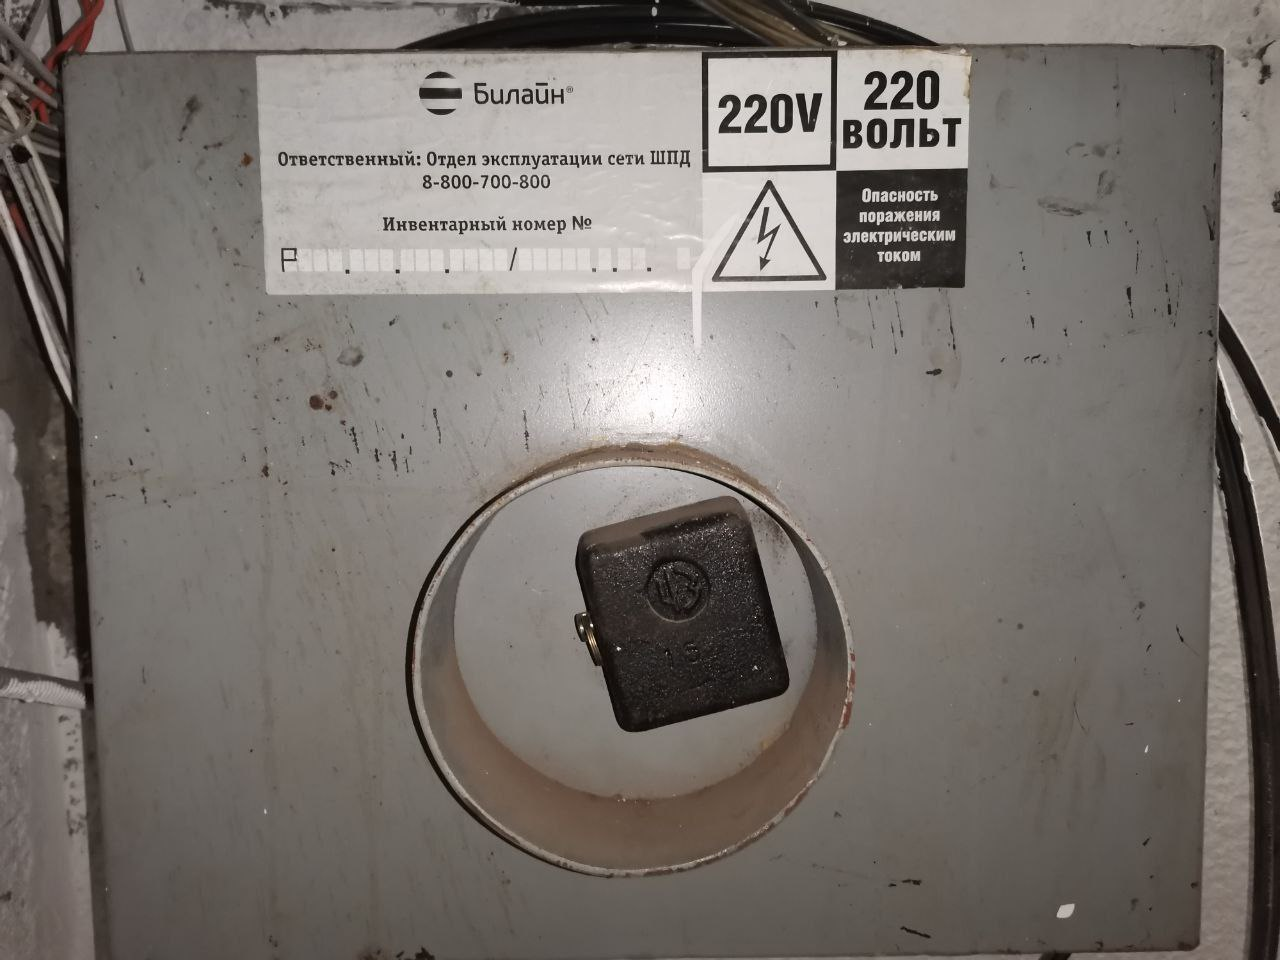shta-3: (55, 44, 1224, 951)
